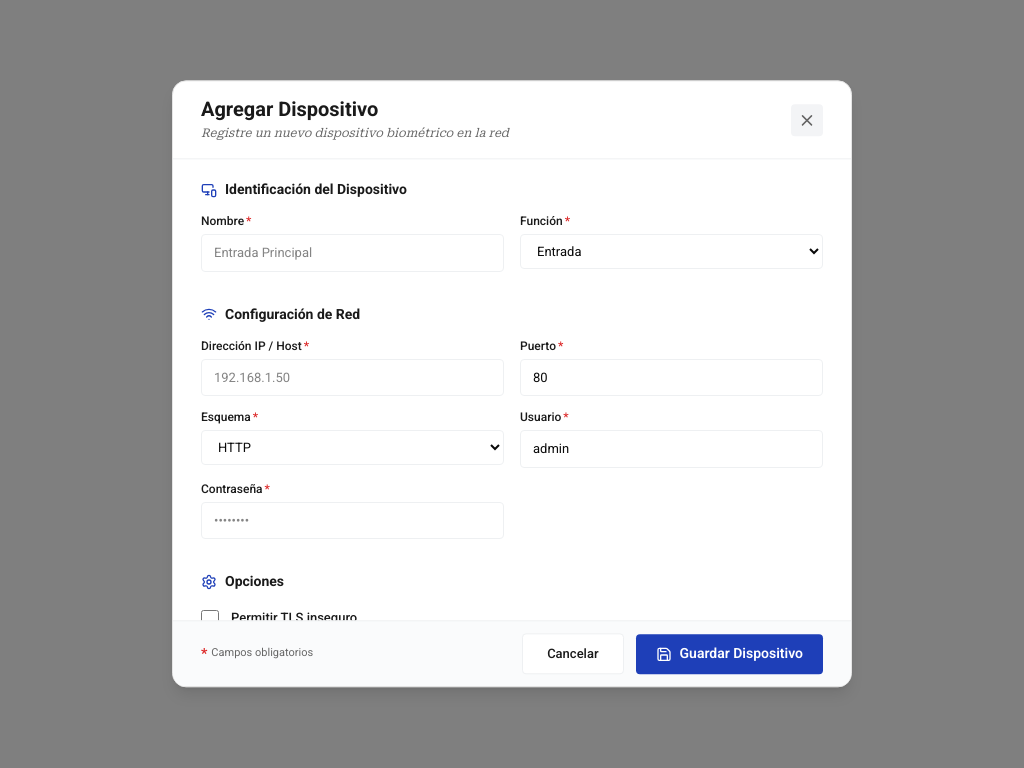
Scenario: CreateDeviceModal › shows client errors for missing and invalid required values without submitting
Type "invalid host!" into the field with test id "device-ip".
click(352, 378); type("invalid host!")  # box x1=201 y1=359 x2=504 y2=396
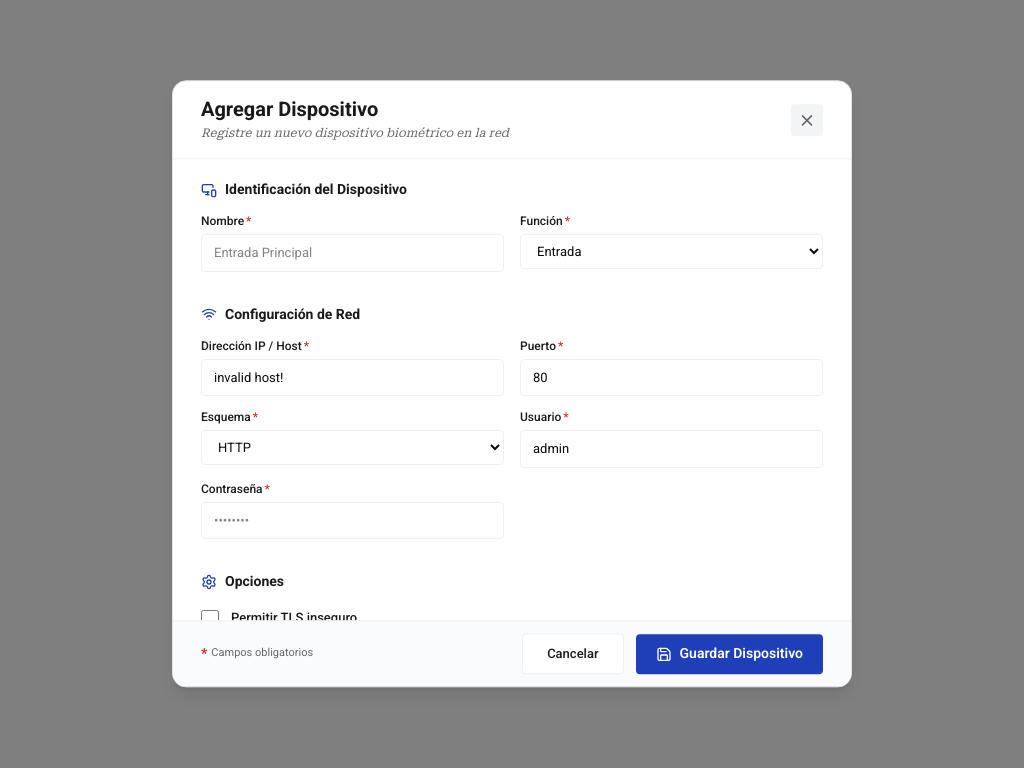
Type "70000" into the number field with test id "device-port".
click(672, 378); type("70000")  # box x1=520 y1=359 x2=823 y2=396
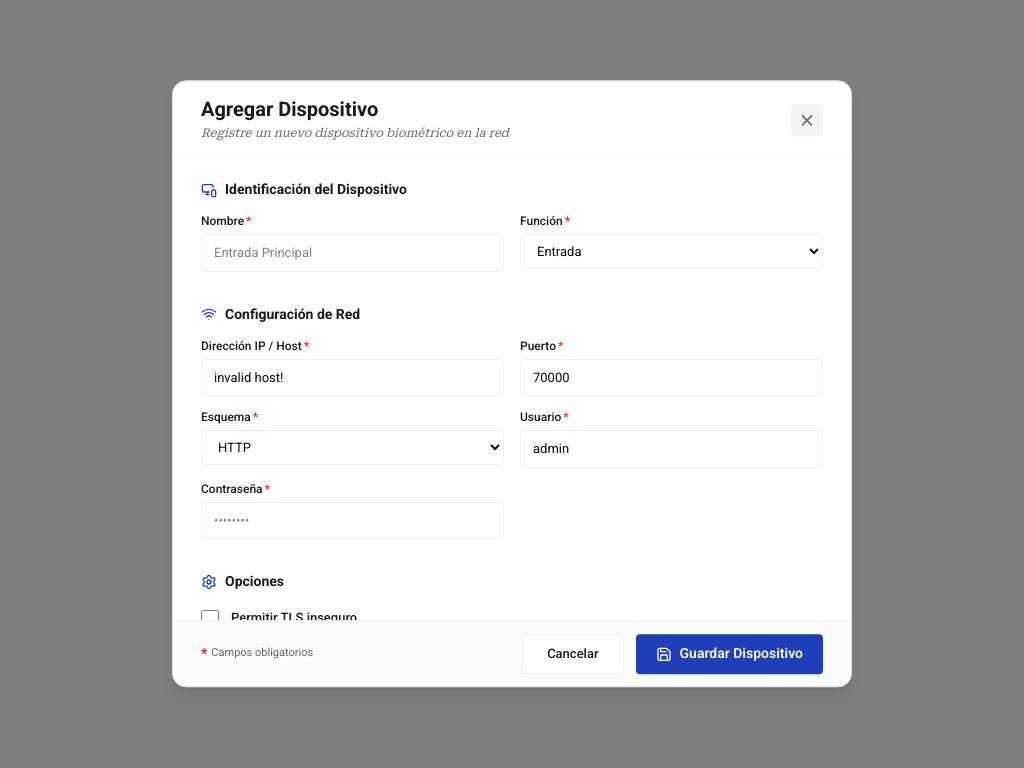
Clear the field with test id "device-username" at (672, 449), box x1=520 y1=430 x2=823 y2=468
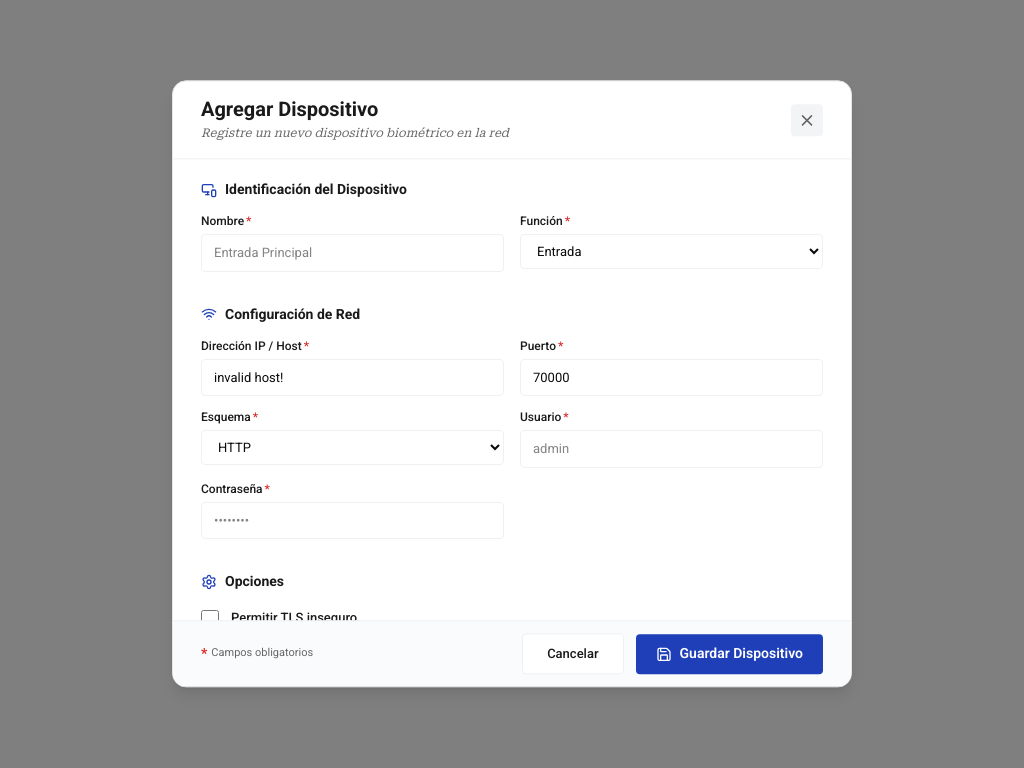
Click the button with test id "save-device-btn".
click(729, 654)  # box x1=636 y1=634 x2=823 y2=674
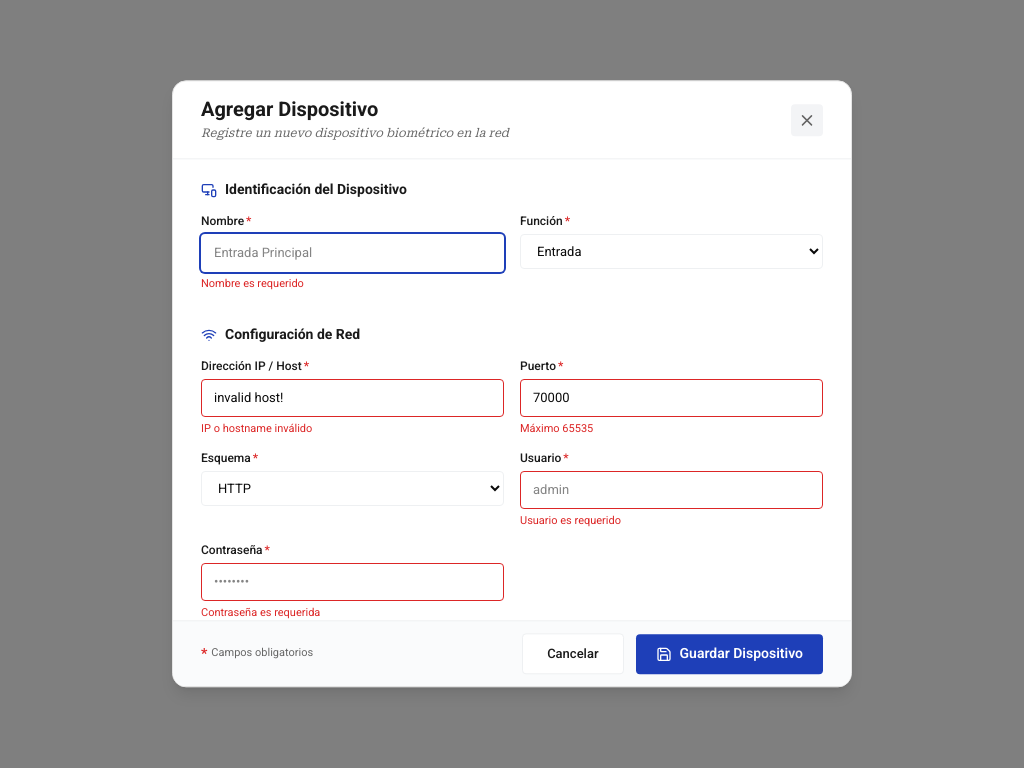
Expected: the text "Nombre es requerido" is shown, x1=201 y1=277 x2=304 y2=290
Expected: the text "IP o hostname inválido" is shown, x1=201 y1=422 x2=312 y2=435
Expected: the text "Máximo 65535" is shown, x1=520 y1=422 x2=593 y2=435
